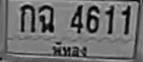1: (104, 4, 114, 35), (121, 4, 131, 34)
4: (70, 4, 83, 34)
6: (85, 4, 100, 33)
A01: (19, 3, 35, 33)
A09: (38, 4, 54, 33)
PLG: (50, 40, 89, 58)
